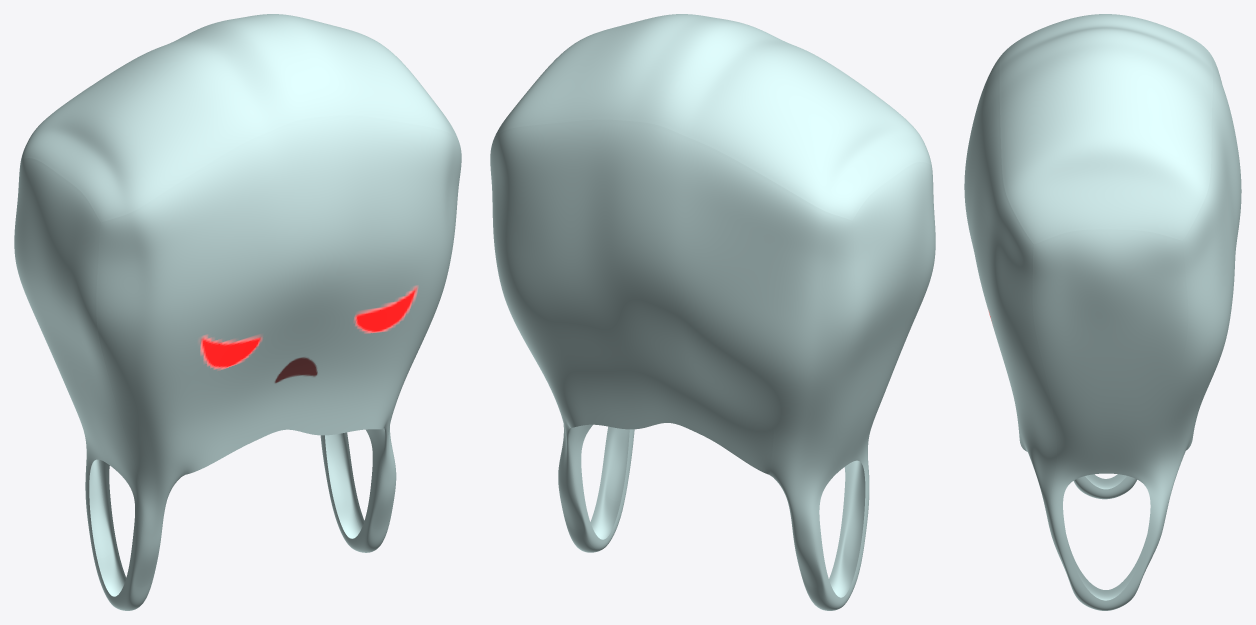
Rendered from plasticBag.fbx.
3 renders of one model, left to right at view 1: azimuth 30°, elevation 25°; view 2: azimuth 150°, elevation 25°; view 3: azimuth 270°, elevation 25°, orthographic. The views are drawn at different scales.
Parts seen in each view (by area): view 1: bag; view 2: bag; view 3: bag.
Boxes of the visible parts, x1=… form: bag: x1=14, y1=14, x2=461, y2=610; bag: x1=490, y1=14, x2=935, y2=610; bag: x1=964, y1=14, x2=1241, y2=610.
Size of the model in its own units: 41.49 by 55.89 by 26.74.
